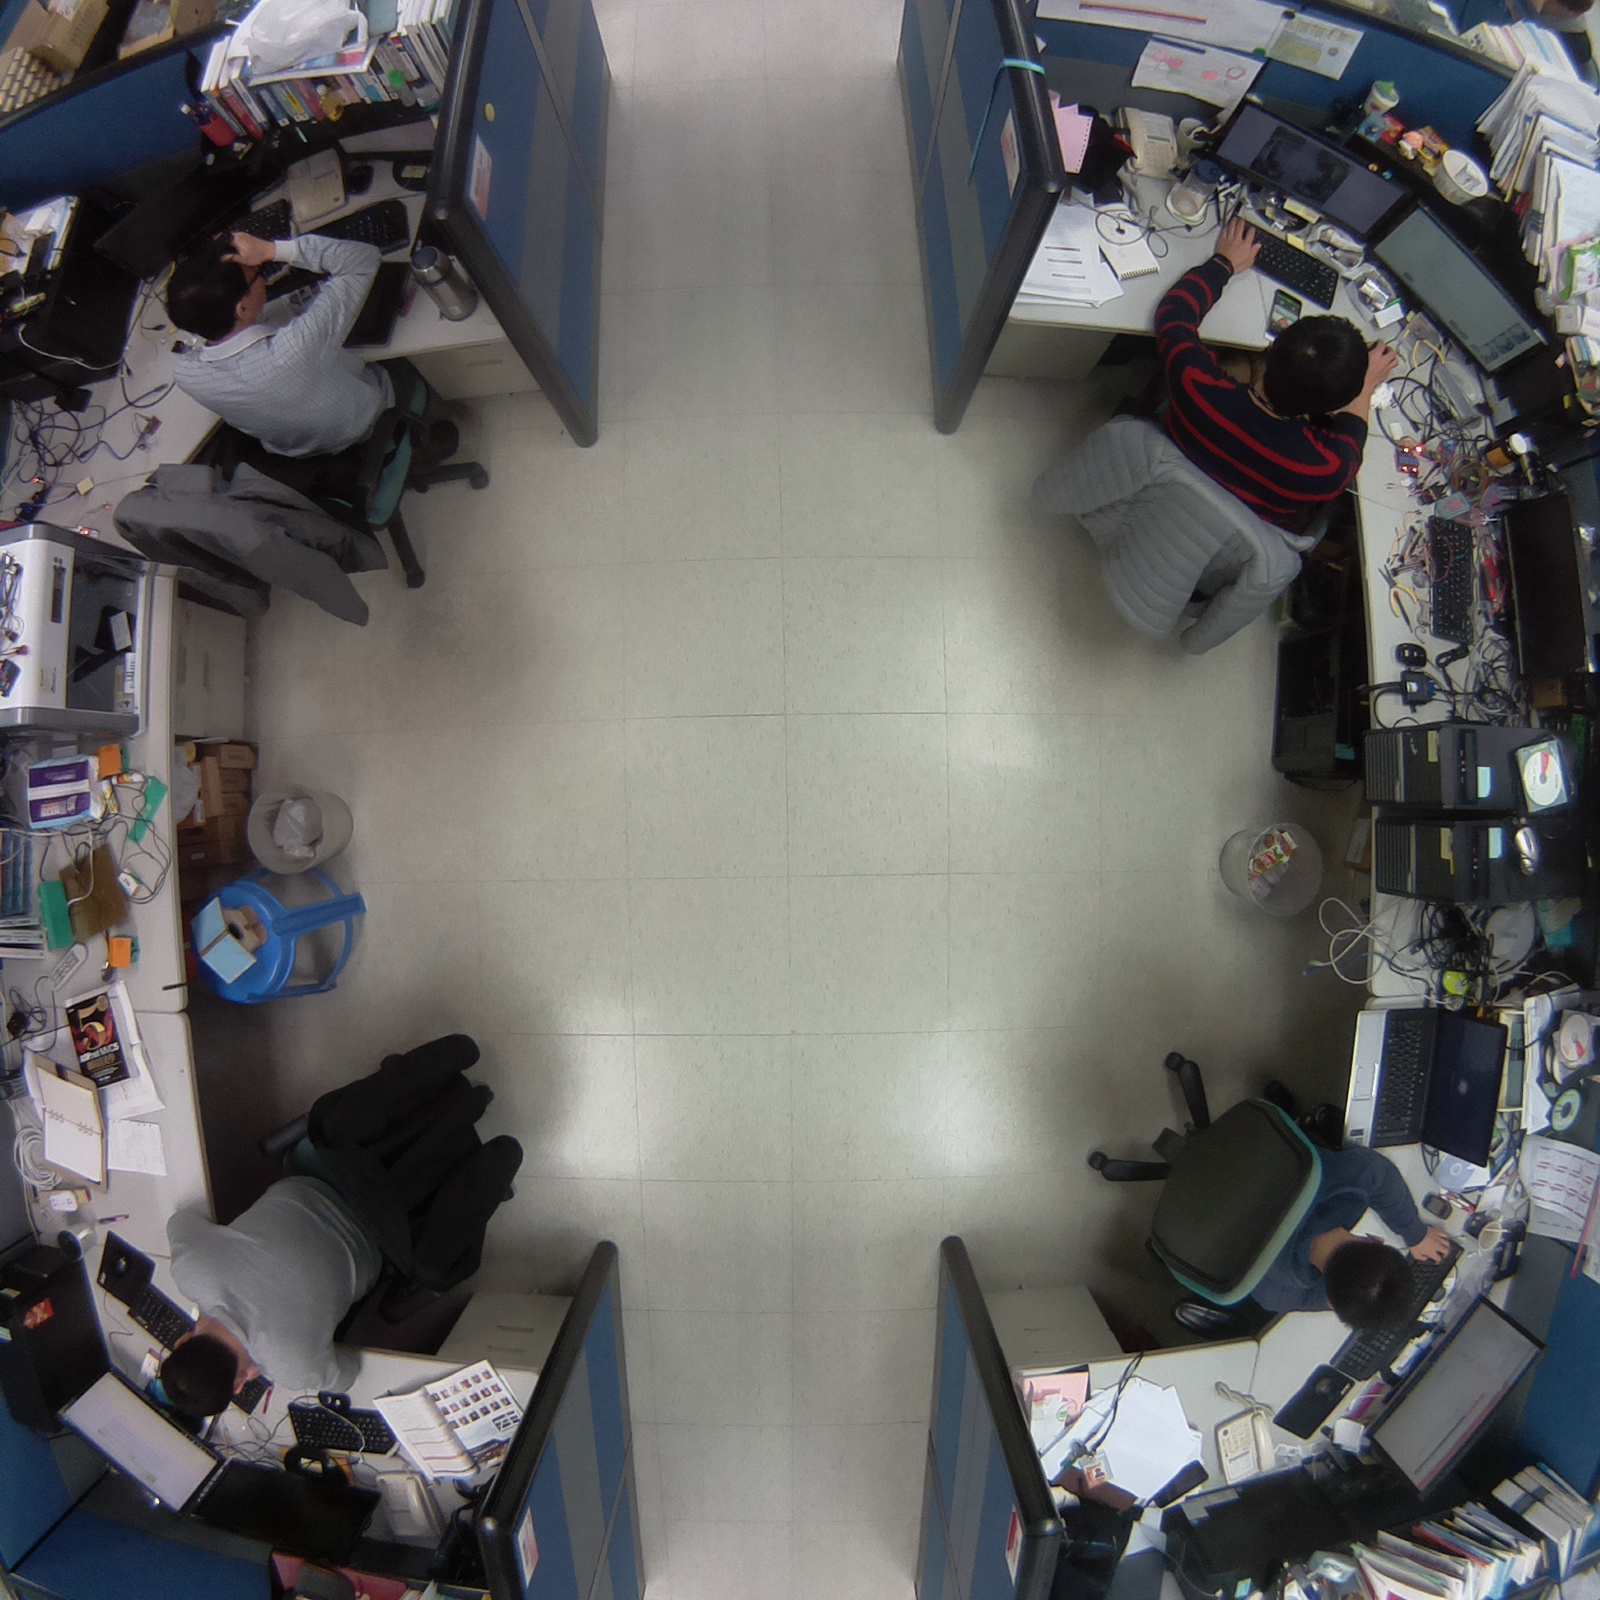head: (1255, 308, 1376, 427), (1317, 1234, 1427, 1338), (151, 1319, 253, 1427), (161, 251, 278, 344)
sitting: (1001, 211, 1391, 678), (145, 1009, 537, 1440), (106, 222, 506, 634), (1063, 1037, 1458, 1350)
